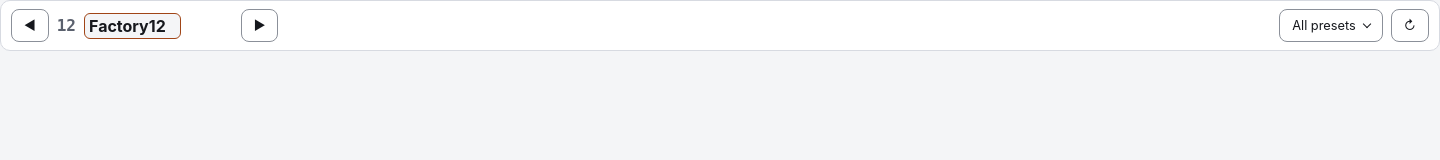
Scenario: PresetBrowser › says so when the device does not acknowledge the save
Step 1. Replace the text in the field named "Rename and save this preset on the device (max 8 characters)" with "MyLead" → (133, 26), box [84,12,181,38]
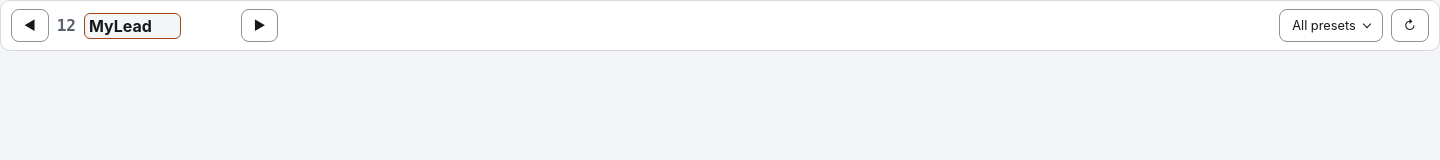
Step 2. Press Enter in the field named "Rename and save this preset on the device (max 8 characters)", box [84,12,181,38]
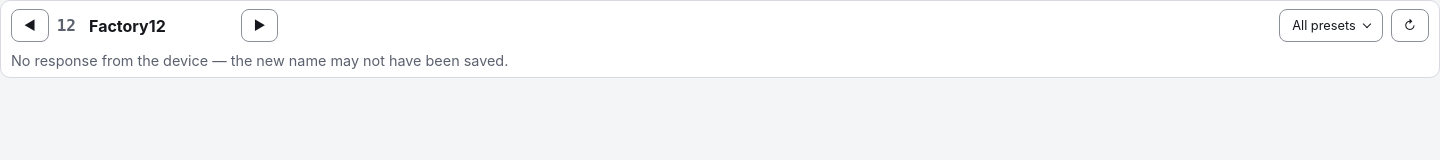
Expected: the message shows "may not have been saved", [11,52,508,69]
